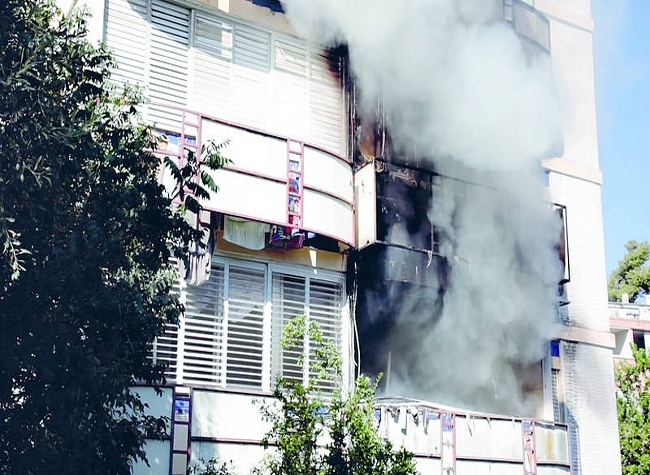Smoke: (352, 18, 574, 168), (378, 289, 551, 408)
